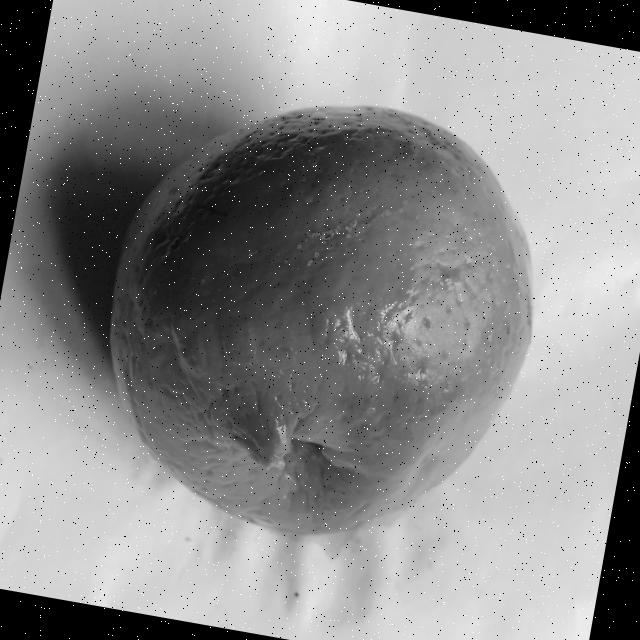Rotten: (70, 66, 568, 570)
